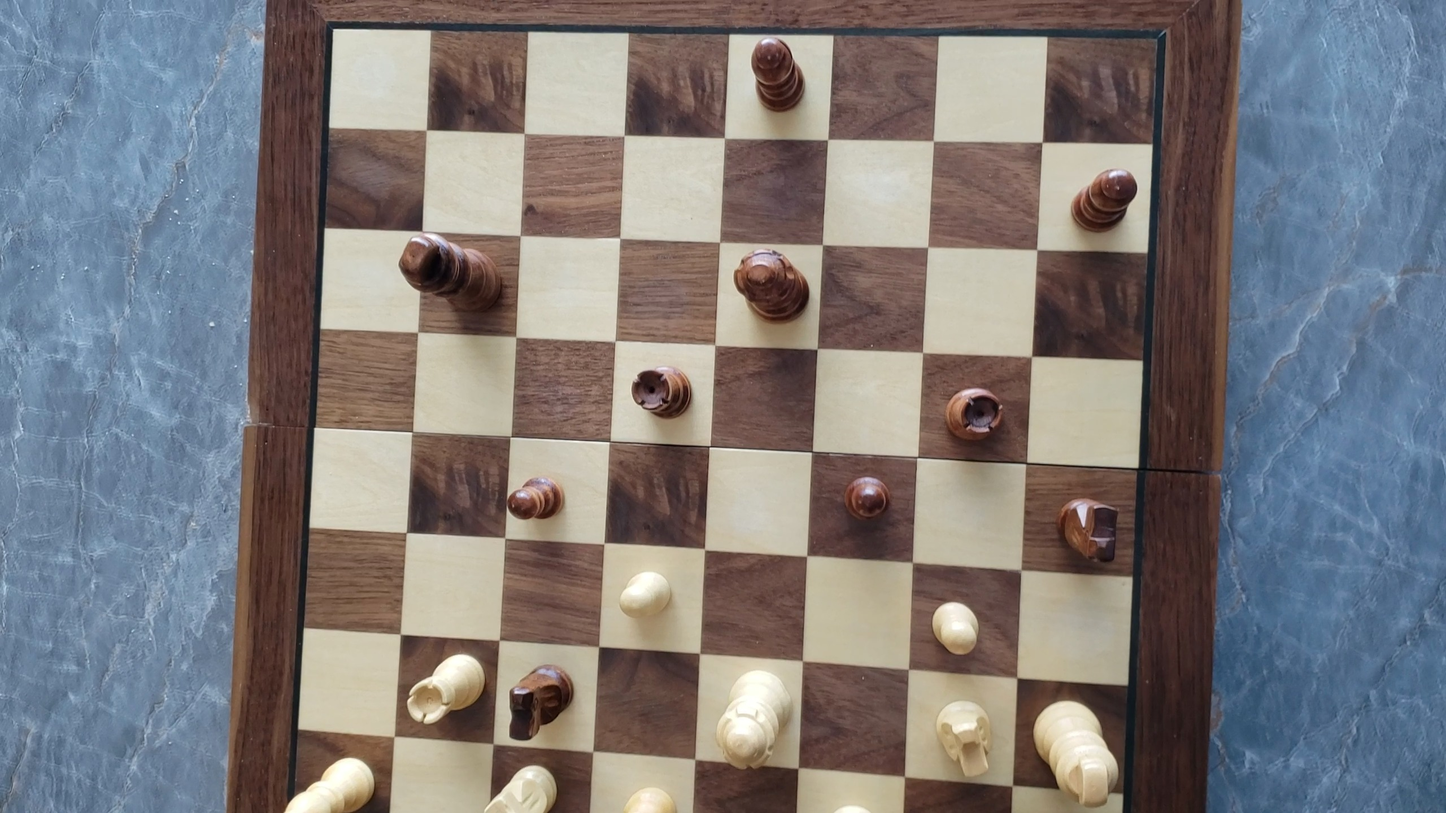black-bishop: (741, 32, 819, 120), (1066, 165, 1138, 233)
black-king: (397, 227, 506, 313)
black-knight: (505, 661, 577, 741), (1055, 494, 1122, 565)
black-pawn: (494, 467, 578, 531), (842, 471, 891, 522)
black-queen: (731, 245, 811, 324)
black-rook: (942, 379, 1007, 443), (630, 362, 694, 419)
white-king: (1021, 688, 1122, 805)
white-knight: (932, 695, 998, 786)
white-pawn: (613, 566, 677, 623), (926, 596, 984, 658)
white-queen: (705, 668, 806, 765)
white-rook: (404, 648, 490, 725)
